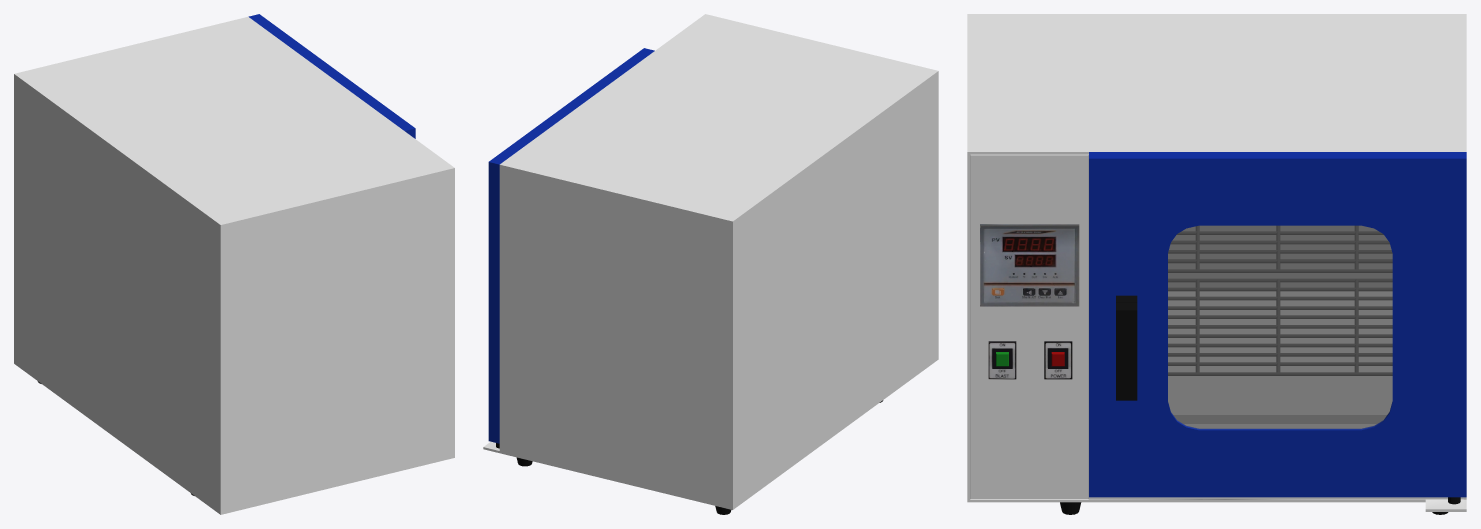
Rendered from SM_G恒温干燥箱.FBX.
3 renders of one model, left to right at view 1: azimuth 30°, elevation 25°; view 2: azimuth 150°, elevation 25°; view 3: azimuth 270°, elevation 25°, orthographic. The views are drawn at different scales.
Parts seen in each view (by area): view 1: SM_G恒温干燥箱, SM_G恒温干燥箱门; view 2: SM_G恒温干燥箱, SM_G恒温干燥箱门; view 3: SM_G恒温干燥箱, SM_G恒温干燥箱门.
Boxes of the visible parts, x1,y1,x2,y2 form: SM_G恒温干燥箱: [14, 17, 454, 514]; SM_G恒温干燥箱门: [248, 14, 415, 138]; SM_G恒温干燥箱: [483, 14, 938, 514]; SM_G恒温干燥箱门: [488, 48, 654, 443]; SM_G恒温干燥箱: [967, 14, 1466, 514]; SM_G恒温干燥箱门: [1089, 152, 1466, 497].
Bounding box in the file's own units: 0.5778 × 0.7642 × 0.6212.
